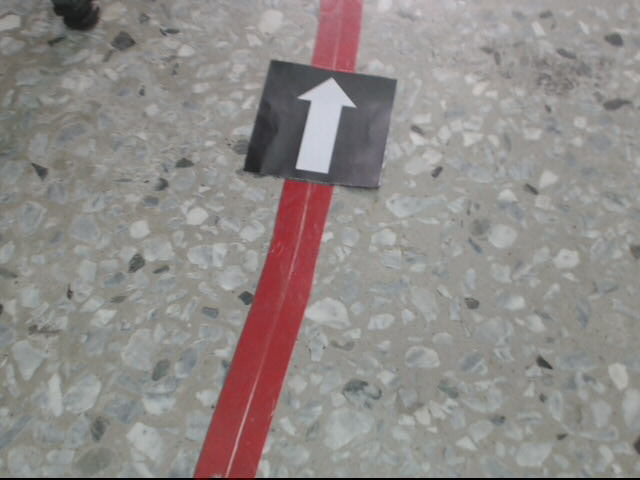straight: (240, 58, 399, 191)
